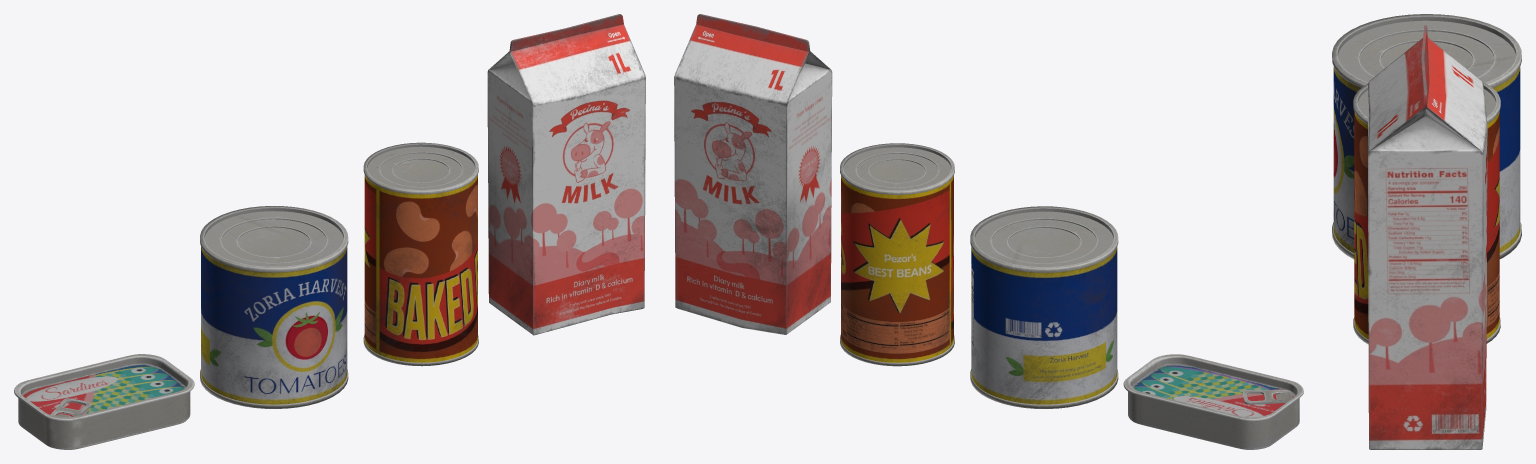
The model's file is long_life_food_1k.glb.
The picture shows the model from 3 angles, left to right: view 1: azimuth 30°, elevation 25°; view 2: azimuth 150°, elevation 25°; view 3: azimuth 270°, elevation 25°; orthographic projection. The views are drawn at different scales.
Parts seen in each view (by area): view 1: long_life_food_milk, long_life_food_tomatoes, long_life_food_beans, long_life_food_sardines; view 2: long_life_food_milk, long_life_food_tomatoes, long_life_food_beans, long_life_food_sardines; view 3: long_life_food_milk, long_life_food_tomatoes, long_life_food_beans.
Part boxes in pixels (<box>): long_life_food_milk: <box>487,14,645,335</box>; long_life_food_tomatoes: <box>200,206,348,408</box>; long_life_food_beans: <box>363,142,478,366</box>; long_life_food_sardines: <box>14,354,194,449</box>; long_life_food_milk: <box>674,14,832,334</box>; long_life_food_tomatoes: <box>970,206,1118,408</box>; long_life_food_beans: <box>840,143,954,366</box>; long_life_food_sardines: <box>1123,354,1303,449</box>; long_life_food_milk: <box>1368,25,1487,449</box>; long_life_food_tomatoes: <box>1332,14,1521,259</box>; long_life_food_beans: <box>1353,81,1500,344</box>.
Size of the model in its own units: 0.5238 by 0.2376 by 0.1136.
Materials: 1 (1 with a texture image).
